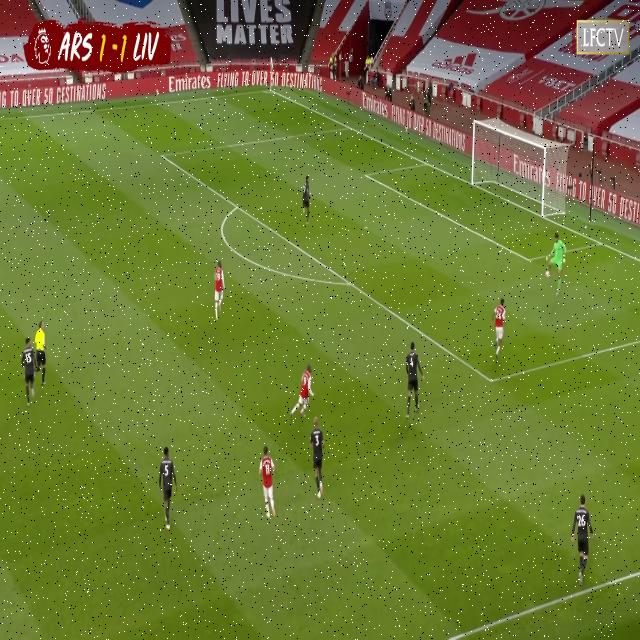Ball: (542, 266, 551, 279)
GoalKeeper: (544, 230, 567, 298)
TEAM 1: (288, 365, 314, 421), (260, 448, 277, 520), (494, 299, 507, 361), (214, 259, 227, 320)
TEAM 2: (571, 497, 596, 588), (158, 445, 178, 531), (403, 341, 424, 420), (309, 418, 326, 500), (21, 340, 36, 406), (302, 176, 312, 223)
